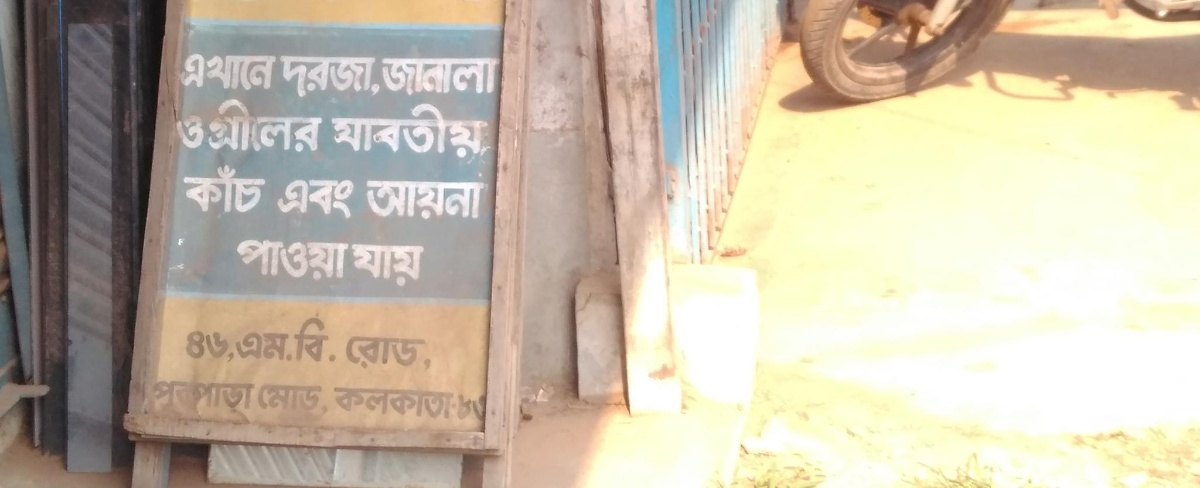text: (337, 101, 352, 160), (353, 101, 368, 160), (369, 101, 384, 160), (385, 101, 400, 160), (401, 101, 416, 160), (417, 101, 432, 160), (433, 101, 448, 160), (449, 101, 464, 160), (465, 101, 480, 160), (209, 98, 224, 155), (225, 98, 240, 155), (241, 98, 256, 155), (257, 98, 272, 155), (273, 98, 288, 155), (289, 98, 304, 155), (305, 98, 320, 155), (193, 162, 208, 215), (209, 162, 224, 215), (225, 162, 240, 215), (241, 162, 256, 215), (241, 313, 256, 364), (257, 313, 272, 364), (273, 313, 288, 364), (289, 313, 304, 364), (305, 313, 320, 364), (321, 313, 336, 364), (337, 234, 353, 281), (353, 240, 368, 290), (369, 240, 384, 290), (385, 240, 400, 290), (401, 240, 416, 290), (241, 234, 256, 281), (257, 234, 272, 281), (273, 234, 288, 281), (289, 234, 304, 281), (305, 234, 320, 281), (321, 234, 336, 281), (289, 55, 304, 100), (305, 55, 320, 100), (321, 55, 336, 100), (337, 55, 352, 100), (353, 55, 368, 100), (289, 176, 304, 221), (305, 176, 320, 221), (321, 176, 336, 221), (337, 176, 352, 221), (225, 325, 241, 367), (481, 101, 492, 160), (369, 179, 384, 222), (385, 179, 400, 222), (401, 179, 416, 222), (417, 179, 432, 222), (433, 179, 448, 222), (449, 179, 464, 222), (465, 179, 480, 222), (385, 56, 400, 99), (401, 56, 416, 99), (417, 56, 432, 99), (433, 56, 448, 99), (449, 56, 464, 99), (465, 56, 480, 99), (481, 56, 496, 99), (193, 51, 208, 94), (209, 51, 224, 94), (225, 51, 240, 94), (241, 51, 256, 94), (257, 51, 272, 94), (193, 325, 208, 367), (209, 325, 224, 367), (177, 110, 192, 152), (241, 377, 257, 415), (369, 55, 382, 100), (161, 377, 176, 415), (177, 377, 192, 415), (193, 377, 208, 415), (209, 377, 224, 415), (225, 377, 240, 415), (353, 333, 368, 370), (369, 333, 384, 370), (385, 333, 400, 370), (401, 333, 416, 370), (417, 333, 432, 370), (182, 162, 192, 215), (257, 162, 267, 215), (273, 383, 288, 418), (289, 383, 304, 418), (305, 383, 320, 418), (337, 386, 352, 420), (353, 386, 368, 420), (369, 386, 384, 420), (385, 386, 400, 420), (401, 386, 416, 420), (417, 386, 432, 420), (433, 386, 448, 420), (193, 110, 205, 152), (417, 240, 427, 290), (258, 383, 272, 418), (465, 391, 480, 420), (233, 313, 240, 364), (337, 313, 344, 364), (330, 101, 336, 160), (184, 325, 192, 367), (343, 333, 352, 370), (281, 55, 288, 100), (321, 383, 330, 418), (234, 234, 240, 281), (282, 176, 288, 221), (455, 391, 464, 420), (362, 179, 368, 222), (329, 386, 336, 420), (449, 386, 456, 420), (321, 98, 325, 155), (379, 56, 384, 99), (497, 56, 502, 99), (187, 51, 192, 94), (273, 51, 278, 94), (155, 377, 160, 415), (481, 391, 487, 420), (481, 179, 485, 222), (433, 333, 436, 370), (350, 240, 352, 290), (353, 176, 355, 221)
